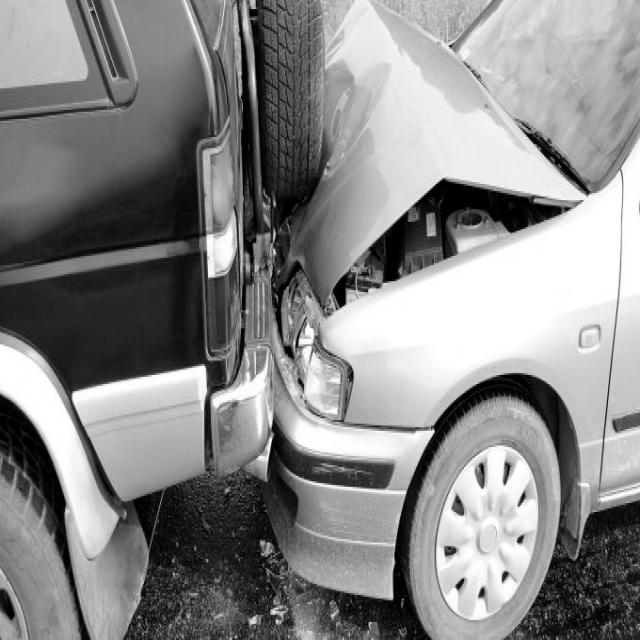crush: (269, 0, 587, 424)
